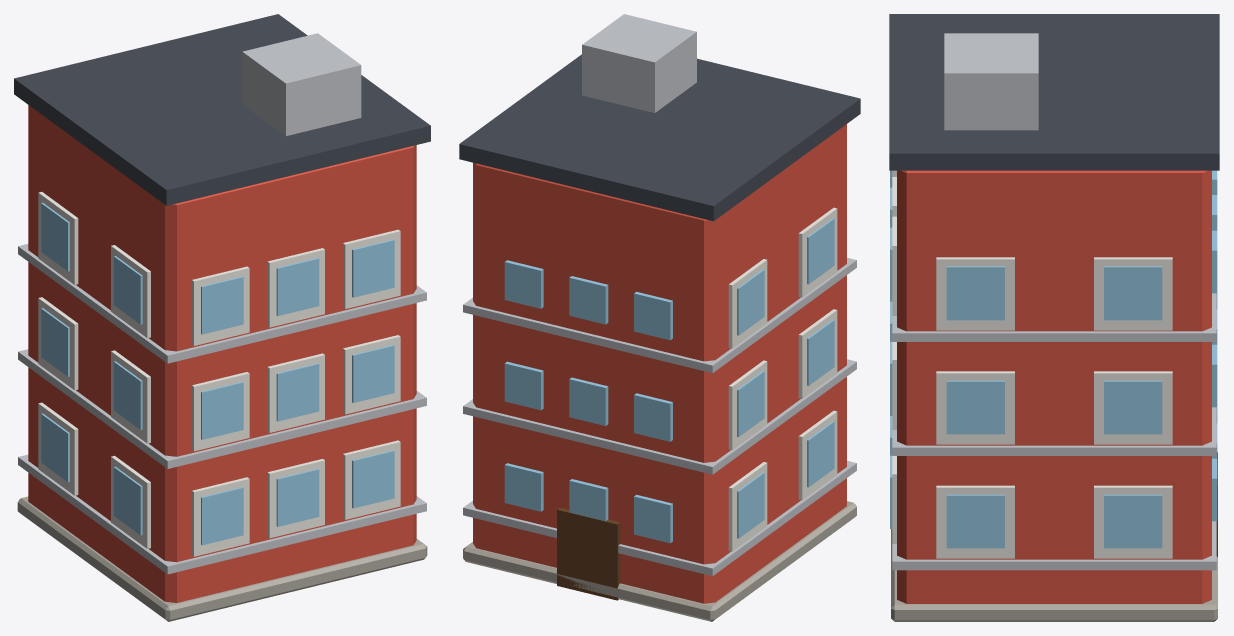
File: apartment.glb
3 views of the same model, side by side, from view 1: azimuth 30°, elevation 25°; view 2: azimuth 150°, elevation 25°; view 3: azimuth 270°, elevation 25° (orthographic). The views are drawn at different scales.
Parts seen in each view (by area): view 1: apartment; view 2: apartment; view 3: apartment.
Part boxes in pixels (x1,y1,x2,y2): apartment: [14, 14, 430, 621]; apartment: [459, 14, 860, 621]; apartment: [889, 14, 1219, 621].
Size of the model in its own units: 2.1 by 3.7 by 2.1.
1 material, 1 textured.
